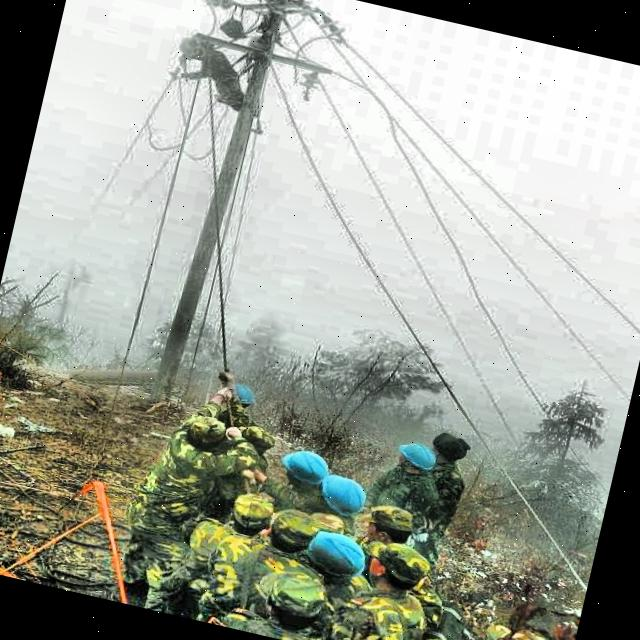helmet: (293, 526, 373, 586), (310, 472, 374, 530), (387, 436, 441, 489), (282, 448, 338, 492), (215, 375, 262, 416)
